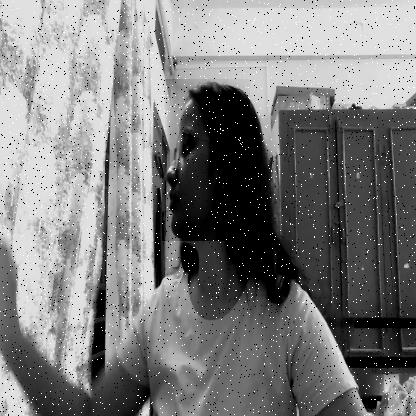Distracted: (162, 79, 250, 241)
